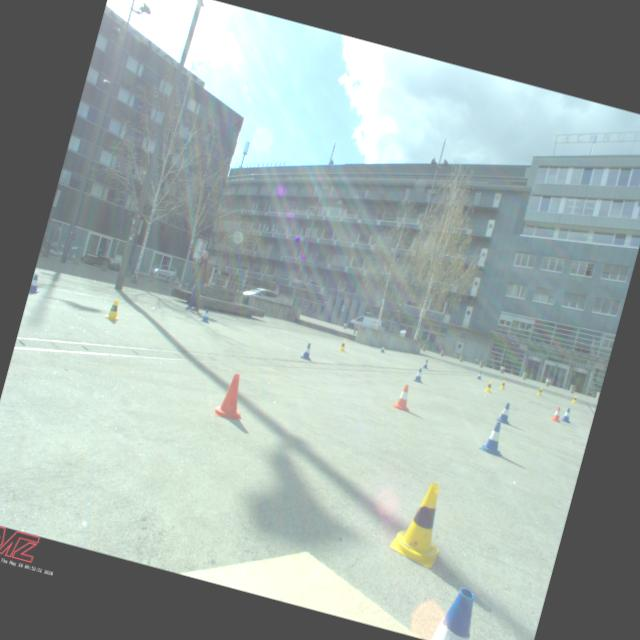blue_cone: (478, 419, 510, 458), (494, 400, 516, 424), (28, 274, 43, 294), (300, 341, 314, 360), (560, 406, 574, 423), (412, 367, 425, 383), (200, 308, 212, 324), (422, 358, 429, 368), (476, 370, 482, 380), (380, 344, 386, 353)
orange_cone: (212, 370, 252, 422), (392, 382, 414, 412), (550, 406, 563, 422)
yellow_cone: (386, 476, 456, 570), (104, 298, 124, 322), (483, 379, 494, 394), (338, 338, 348, 352), (498, 379, 506, 390), (570, 394, 578, 404), (536, 386, 543, 396)
